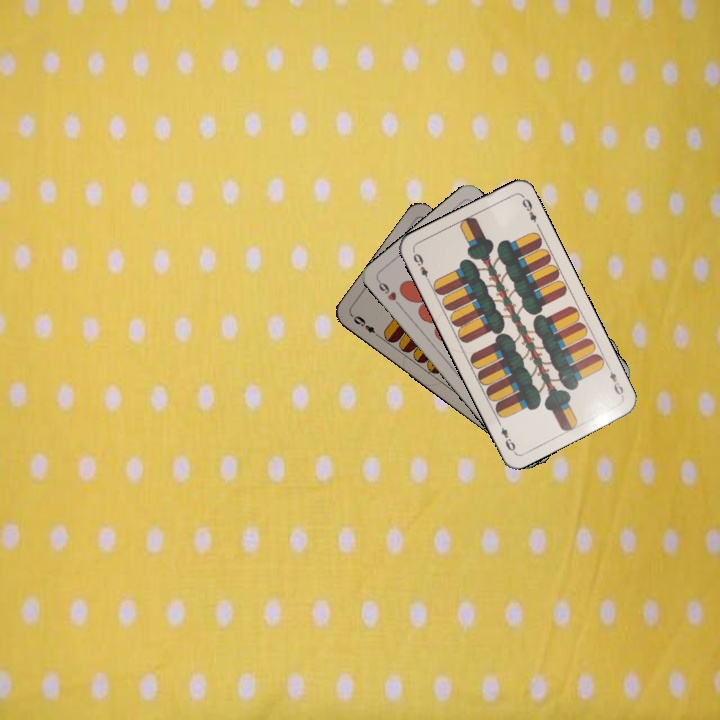E9: (349, 312, 383, 340), (409, 247, 433, 285), (603, 361, 626, 400)
H9: (374, 276, 404, 310)
